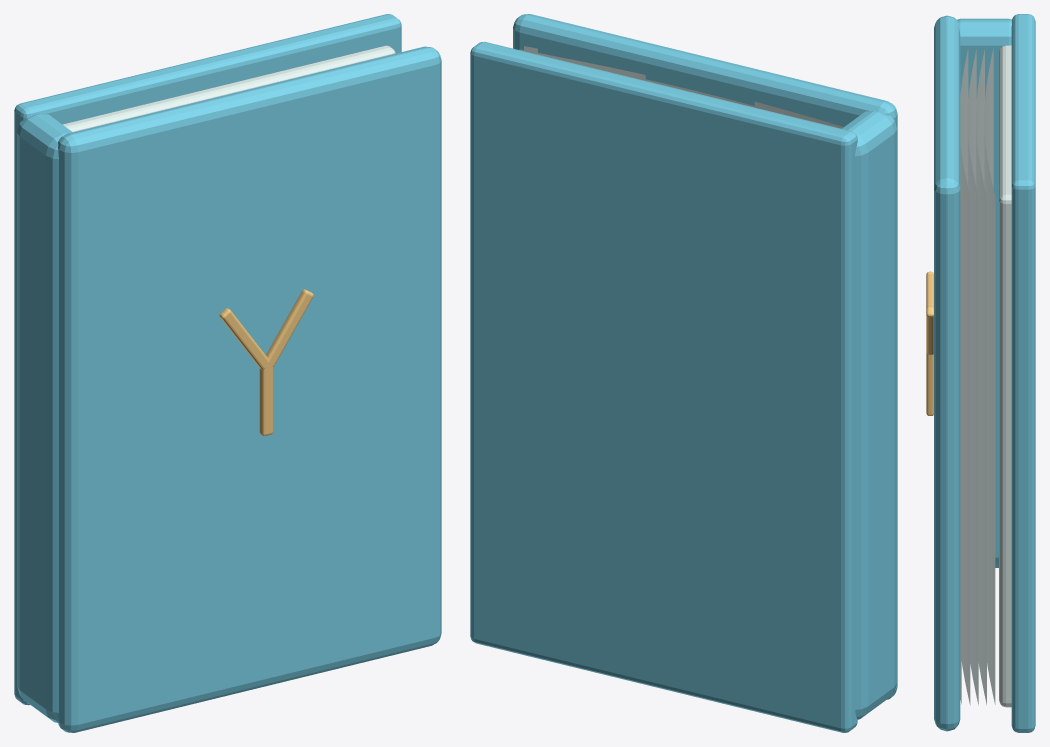
File: yeah-folio.glb
3 renders of one model, left to right at view 1: azimuth 30°, elevation 25°; view 2: azimuth 150°, elevation 25°; view 3: azimuth 270°, elevation 25°, orthographic. The views are drawn at different scales.
Visible parts, largest first — view 1: FrontCover, Binding, BackCover, PageBlock, Y-arm.001, Y-stem, Y-arm; view 2: BackCover, Binding, FrontCover, Leaf1; view 3: FrontCover, BackCover, PageBlock, Leaf1, Leaf4, Leaf2, Leaf3, Binding, Leaf0, Y-stem, Y-arm.001, Y-arm.
Boxes of the visible parts, x1,y1,x2,y2 form: FrontCover: (58, 46, 441, 732); Binding: (17, 113, 72, 722); BackCover: (14, 14, 401, 705); PageBlock: (63, 45, 395, 132); Y-arm.001: (266, 289, 313, 366); Y-stem: (259, 364, 273, 435); Y-arm: (219, 308, 268, 369); BackCover: (470, 41, 857, 732); Binding: (842, 111, 896, 719); FrontCover: (513, 14, 897, 699); Leaf1: (519, 49, 843, 128); FrontCover: (934, 15, 960, 731); BackCover: (1011, 14, 1035, 732); PageBlock: (999, 45, 1011, 707); Leaf1: (960, 49, 970, 705); Leaf4: (984, 48, 995, 704); Leaf2: (967, 49, 978, 705); Leaf3: (976, 49, 986, 704); Binding: (957, 18, 1011, 567); Leaf0: (960, 192, 961, 704); Y-stem: (926, 353, 933, 415); Y-arm.001: (926, 306, 933, 354); Y-arm: (926, 271, 933, 308).
Size of the model in its own units: 0.935 by 1.38 by 0.247.
